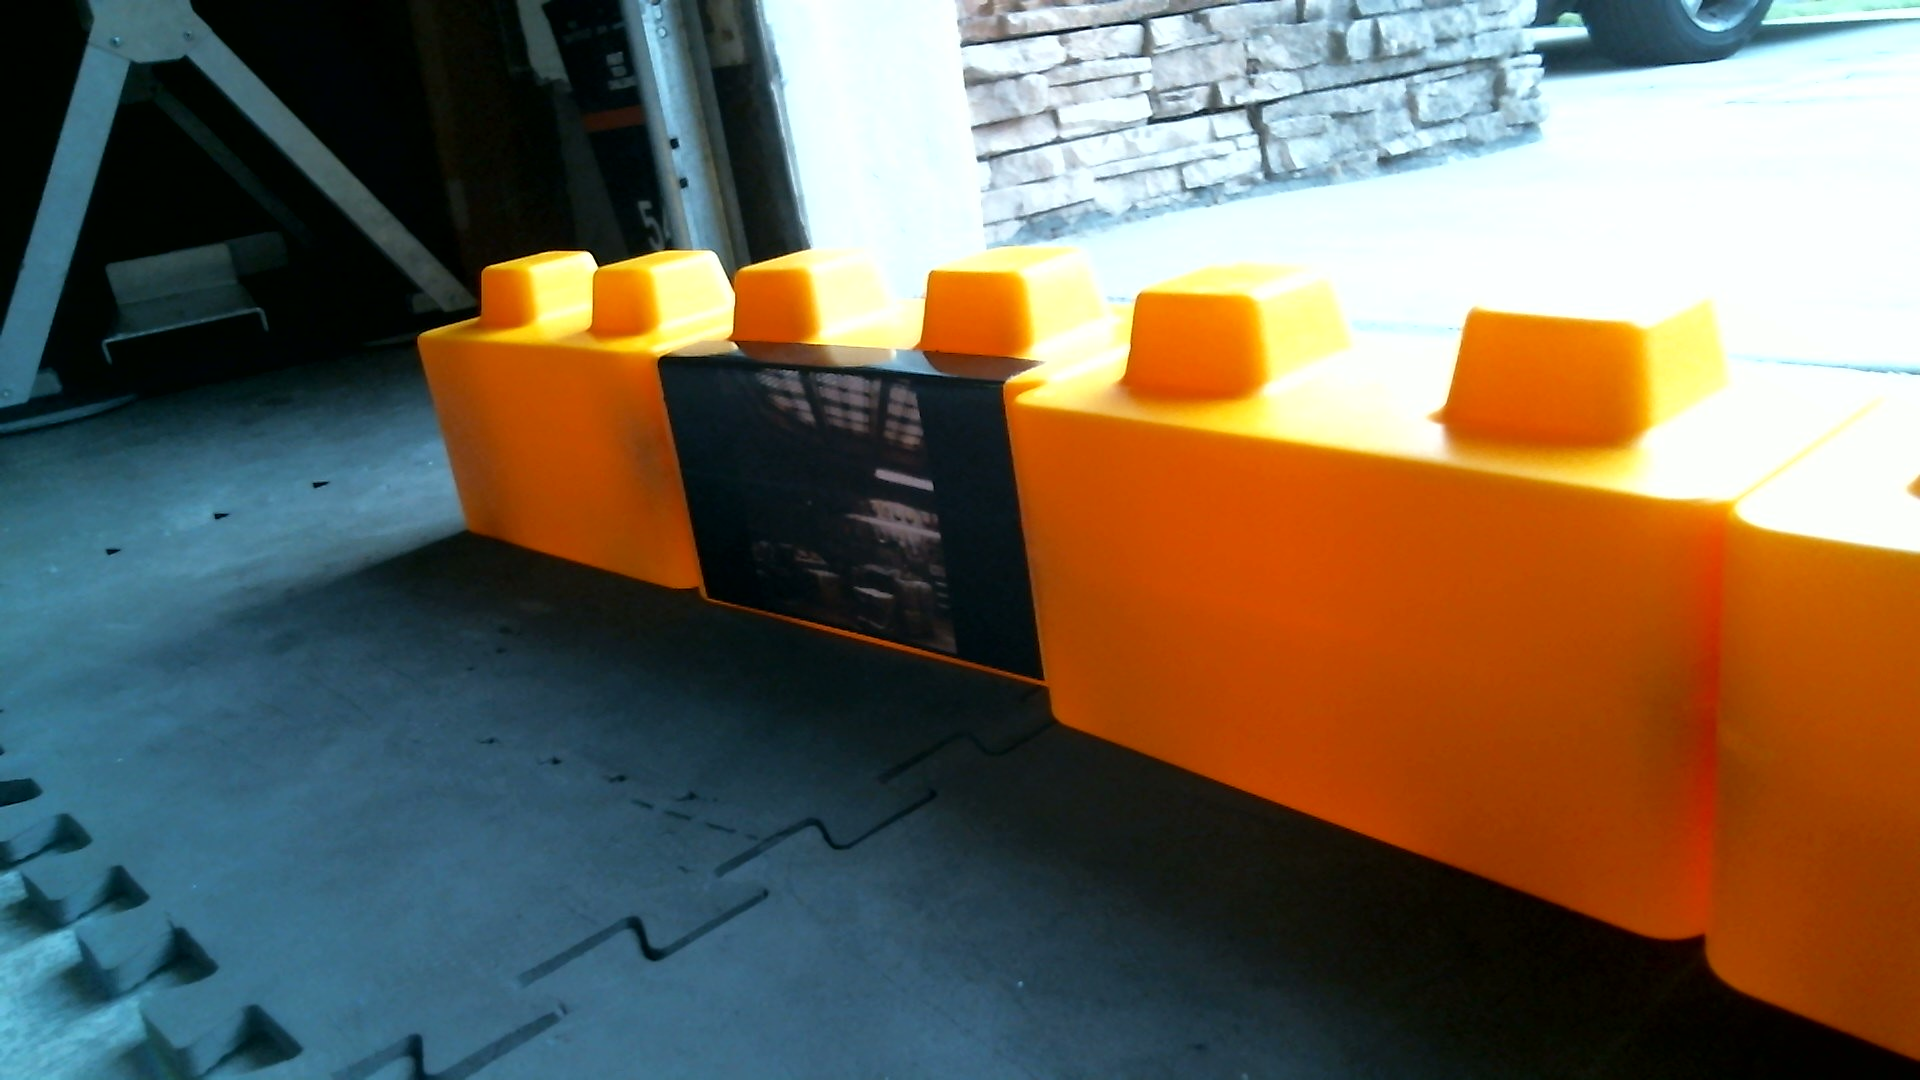center: (393, 220, 1869, 982)
